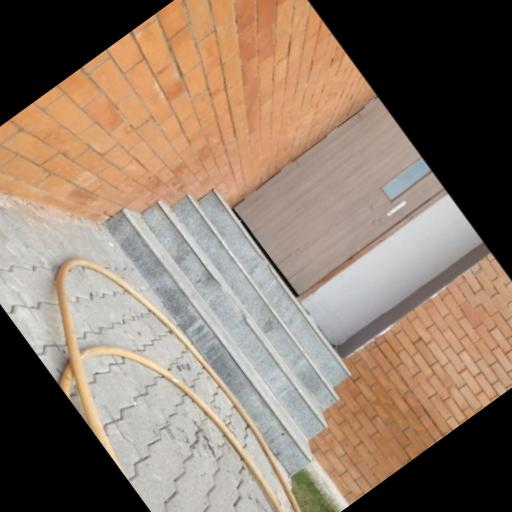stairs: (106, 190, 349, 476)
